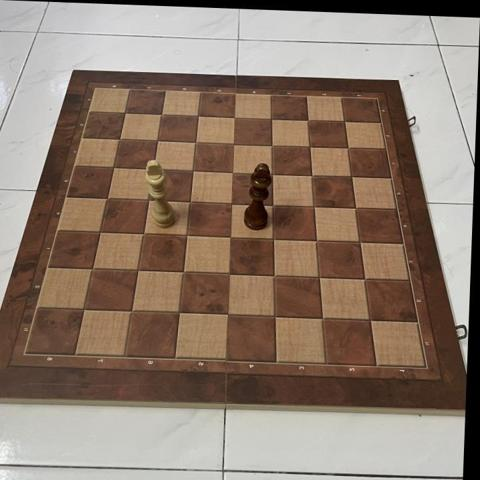xcorner: (117, 104, 134, 121), (190, 107, 207, 124), (263, 110, 280, 127), (336, 113, 353, 130), (188, 133, 205, 150), (106, 158, 123, 175), (343, 168, 360, 185), (141, 190, 158, 207), (182, 192, 199, 209), (306, 197, 323, 214), (347, 199, 364, 216), (93, 222, 110, 239), (222, 227, 239, 244), (265, 229, 282, 246), (176, 262, 193, 279), (221, 264, 238, 281), (356, 269, 373, 286), (77, 298, 94, 315), (172, 302, 189, 319), (314, 308, 331, 325), (112, 130, 128, 147), (264, 136, 280, 153), (302, 138, 318, 155), (185, 162, 202, 178), (225, 163, 241, 180), (264, 165, 281, 181), (304, 166, 320, 183), (136, 224, 153, 240), (179, 226, 196, 242), (308, 231, 325, 247), (351, 233, 368, 249), (86, 258, 102, 275), (131, 260, 147, 277), (266, 266, 283, 282), (311, 268, 328, 284), (125, 300, 141, 317), (220, 304, 236, 321), (267, 306, 283, 323), (361, 310, 378, 326), (154, 106, 170, 122), (227, 109, 243, 125), (300, 112, 316, 128), (150, 132, 166, 148), (226, 135, 242, 151), (340, 140, 356, 156), (146, 160, 162, 176), (100, 189, 116, 205), (224, 194, 240, 210), (265, 196, 281, 212)
